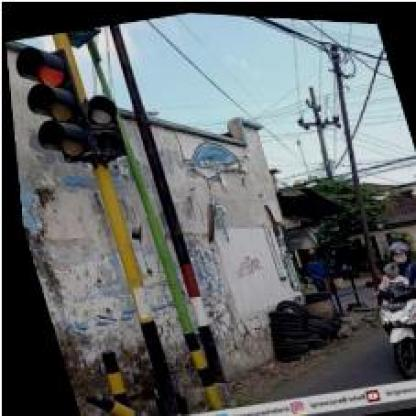red: (13, 40, 97, 169)
